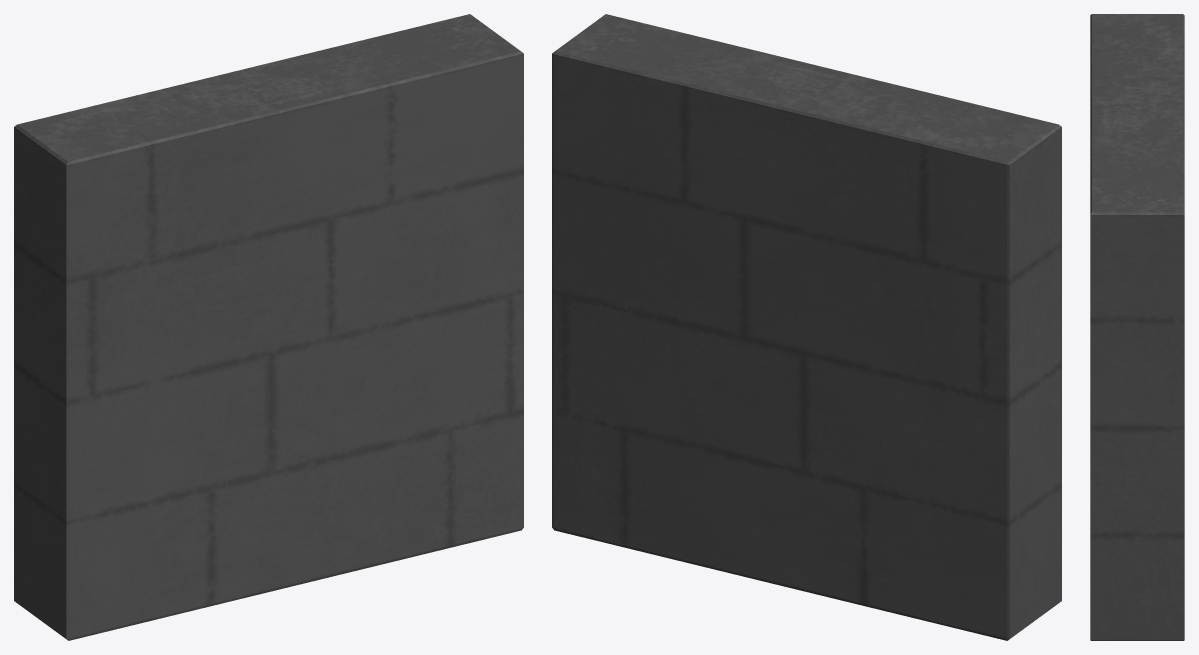
Rendered from wall.gltf.
3 renders of one model, left to right at view 1: azimuth 30°, elevation 25°; view 2: azimuth 150°, elevation 25°; view 3: azimuth 270°, elevation 25°, orthographic. The views are drawn at different scales.
Visible parts, largest first — view 1: wall; view 2: wall; view 3: wall.
Part boxes in pixels (<box>): wall: <box>14,14,523,640</box>; wall: <box>552,14,1061,640</box>; wall: <box>1090,14,1184,640</box>.
Size of the model in its own units: 2 by 2 by 0.4.
Materials: 1 (1 with a texture image).
